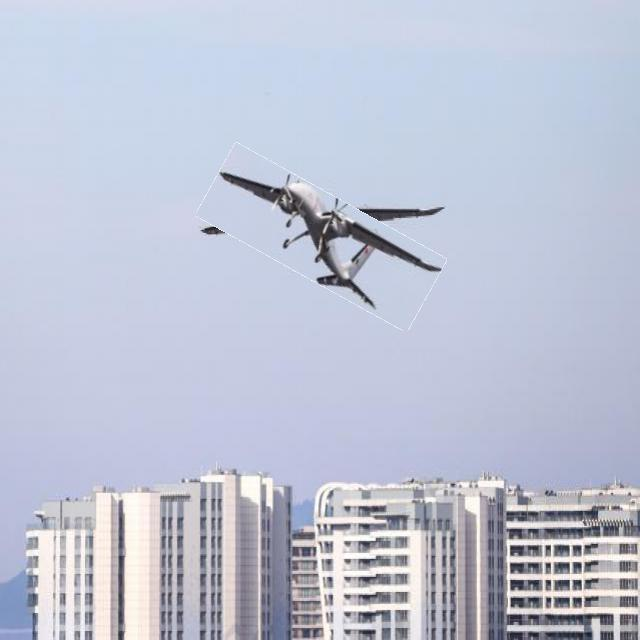Airplane: (194, 162, 456, 316)
